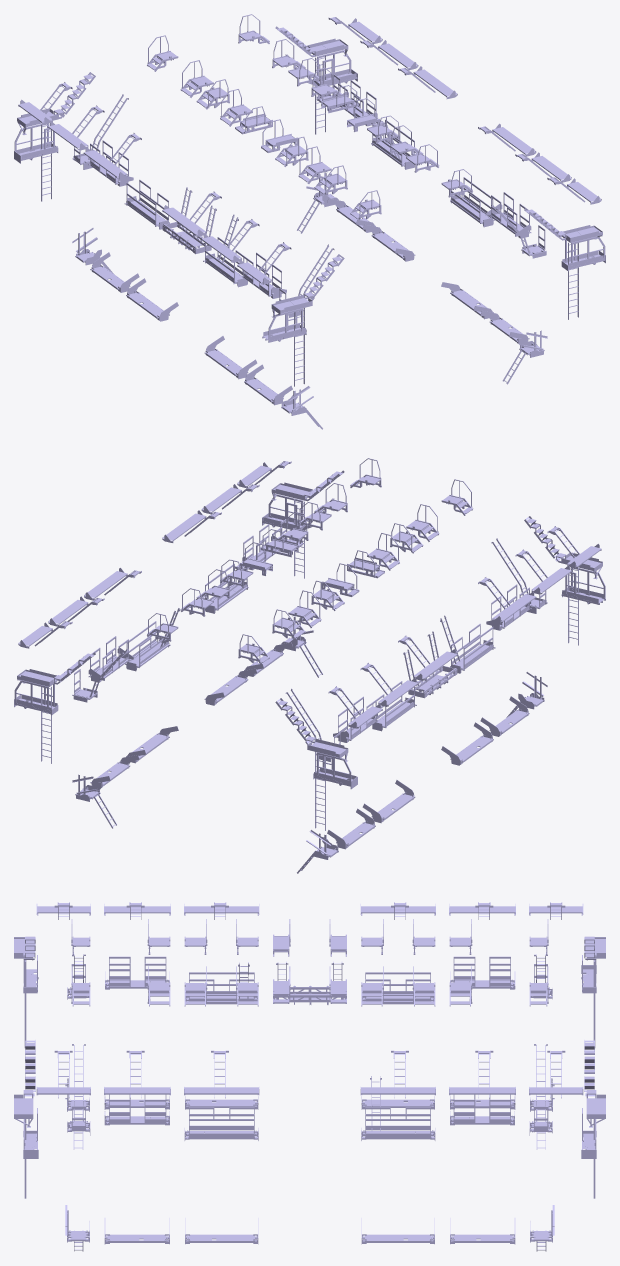
The model's file is Access-Platforms-Even-Sectors.glb.
3 views of the same model, one above another, from view 1: azimuth 30°, elevation 25°; view 2: azimuth 150°, elevation 25°; view 3: azimuth 270°, elevation 25° (orthographic). The views are drawn at different scales.
Parts seen in each view (by area): view 1: S__0000026047978440; view 2: S__0000026047978440; view 3: S__0000026047978440.
Part boxes in pixels (x1=…): S__0000026047978440: x1=14, y1=14, x2=605, y2=429; S__0000026047978440: x1=14, y1=458, x2=605, y2=873; S__0000026047978440: x1=14, y1=902, x2=605, y2=1251.
Size of the model in its own units: 17.16 by 10.93 by 22.96.
